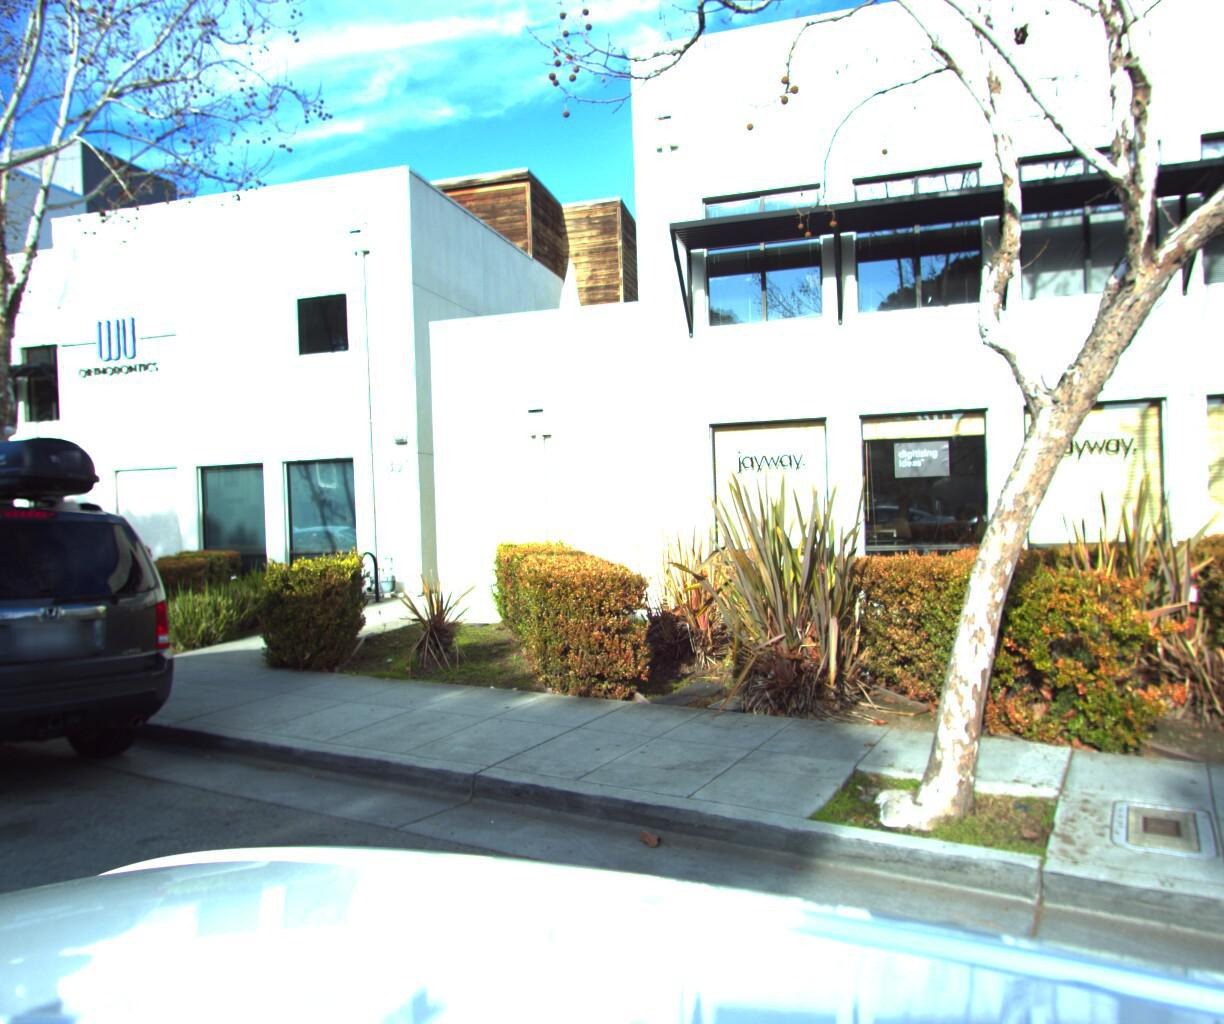car: (0, 405, 228, 887)
